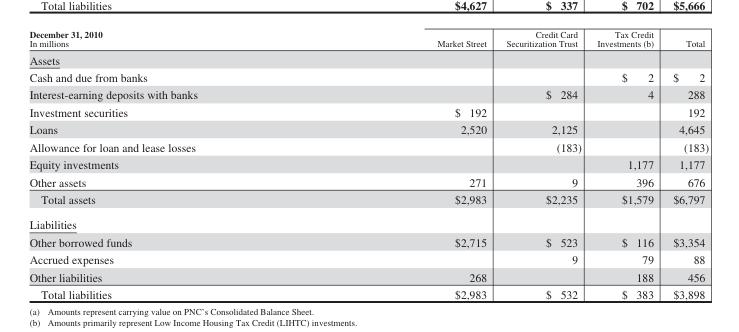table: (28, 28, 708, 300)
table column: (28, 28, 316, 300), (316, 28, 495, 300), (495, 28, 588, 300), (588, 28, 662, 300), (662, 28, 708, 300)
table column header: (28, 28, 708, 50)
table projected row header: (28, 211, 708, 233), (28, 50, 708, 68)
table row: (28, 28, 708, 50), (28, 211, 708, 233), (28, 190, 708, 211), (28, 50, 708, 68), (28, 85, 708, 103), (28, 120, 708, 138), (28, 172, 708, 190), (28, 267, 708, 285), (28, 68, 708, 85), (28, 103, 708, 120), (28, 138, 708, 155), (28, 155, 708, 172), (28, 233, 708, 250), (28, 250, 708, 267), (28, 285, 708, 300)
